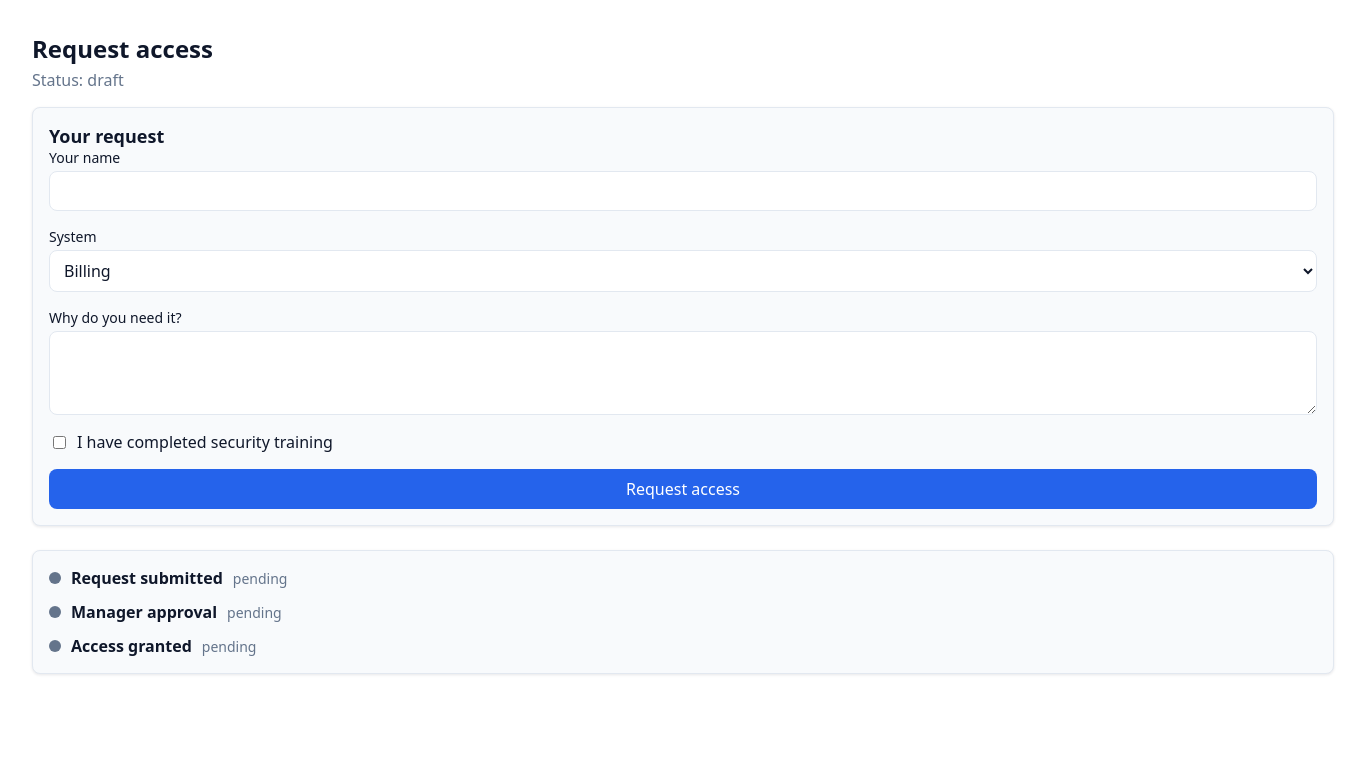
Scenario: access-request workflow (UI -> agent -> UI) › submits the form, the scripted agent replies, the workflow advances
Click the button "Request access" at (683, 489), box [49, 469, 1317, 509]
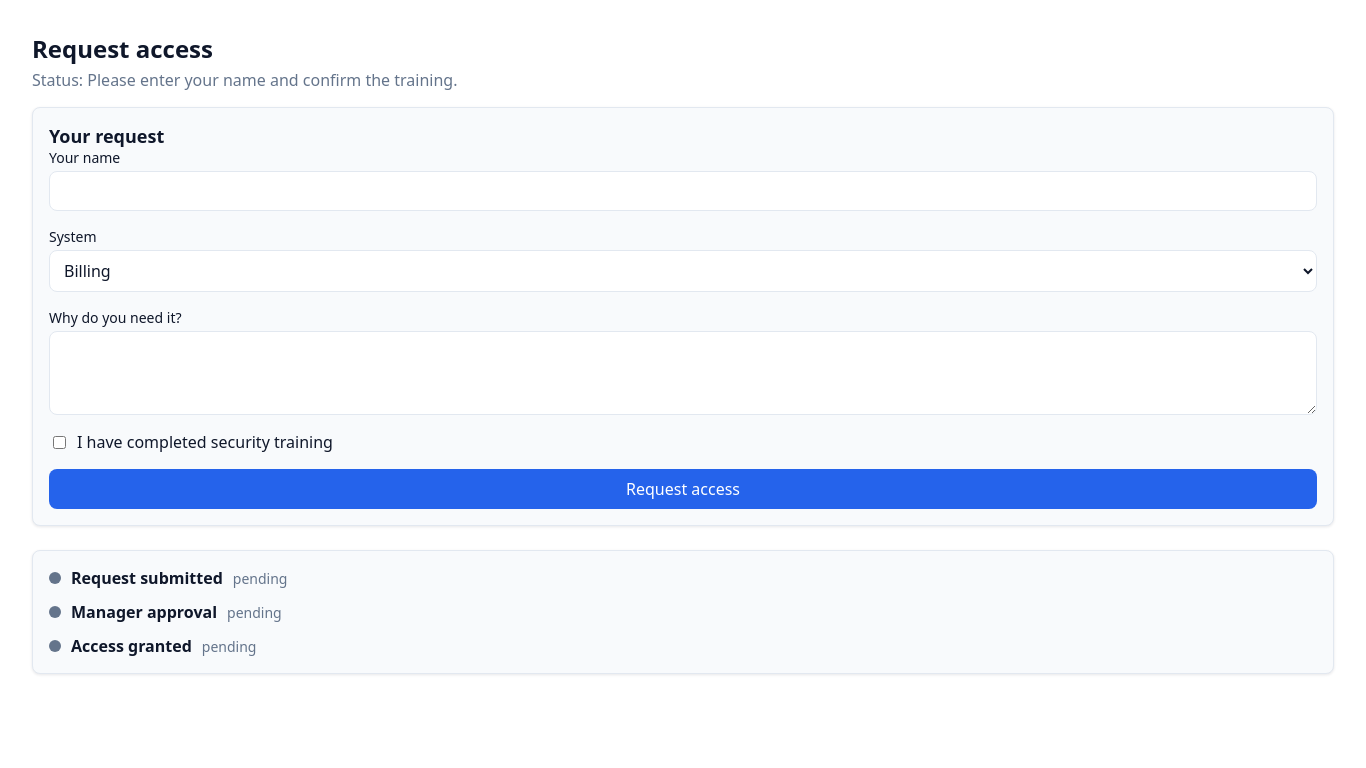
Expected: the text "Status: Please enter your name and confirm the training." is shown, [32, 69, 458, 91]
Type "Ada" into the field labelled "Your name" at (683, 191), box [49, 171, 1317, 211]
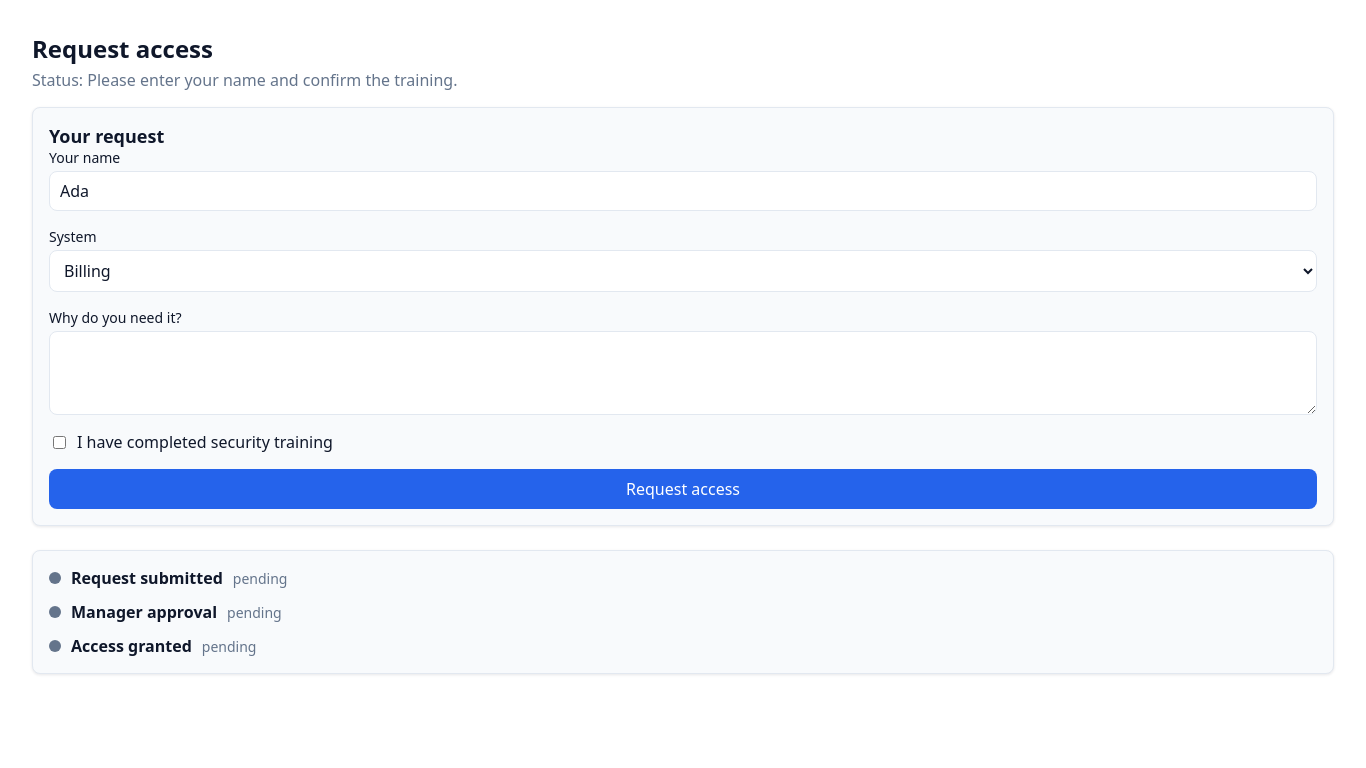
Click the checkbox labelled "I have completed security training" at (60, 442), box [53, 436, 66, 448]
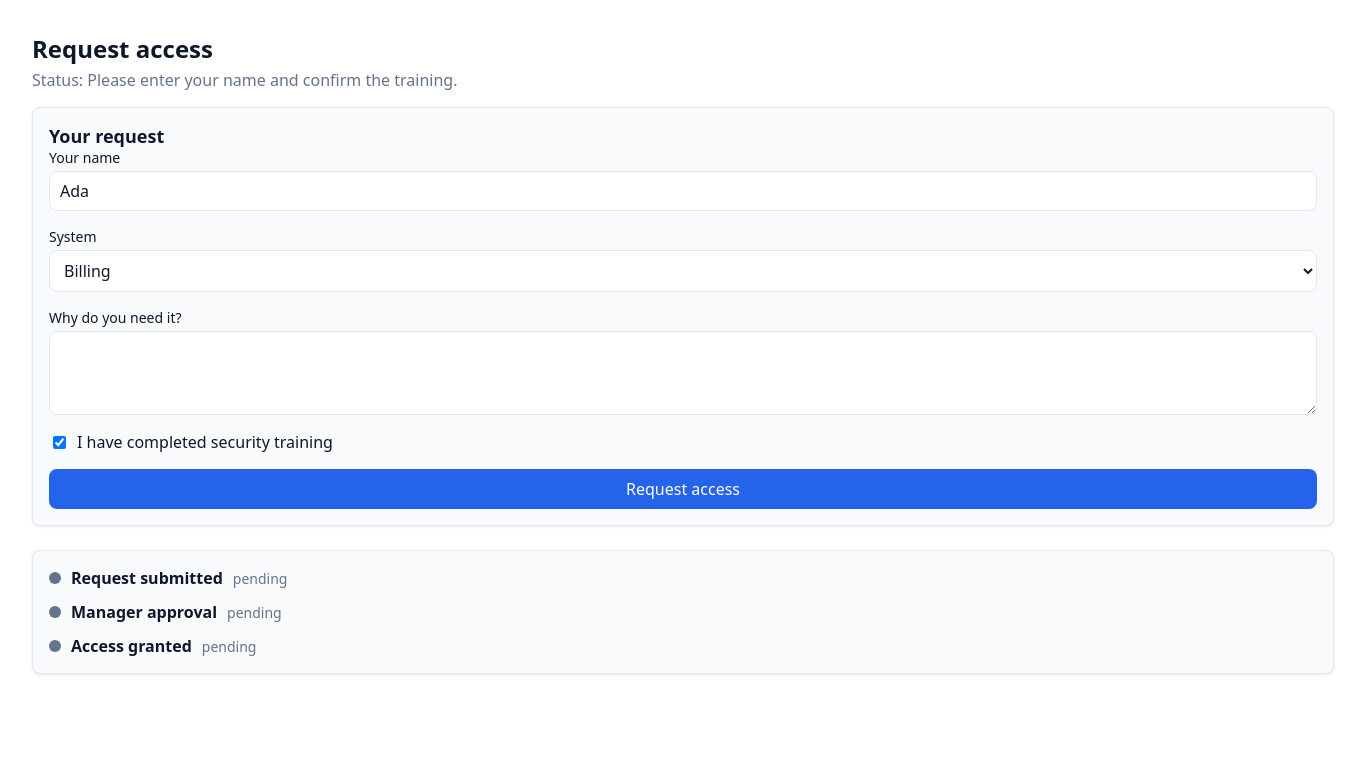
Click the button "Request access" at (683, 489), box [49, 469, 1317, 509]
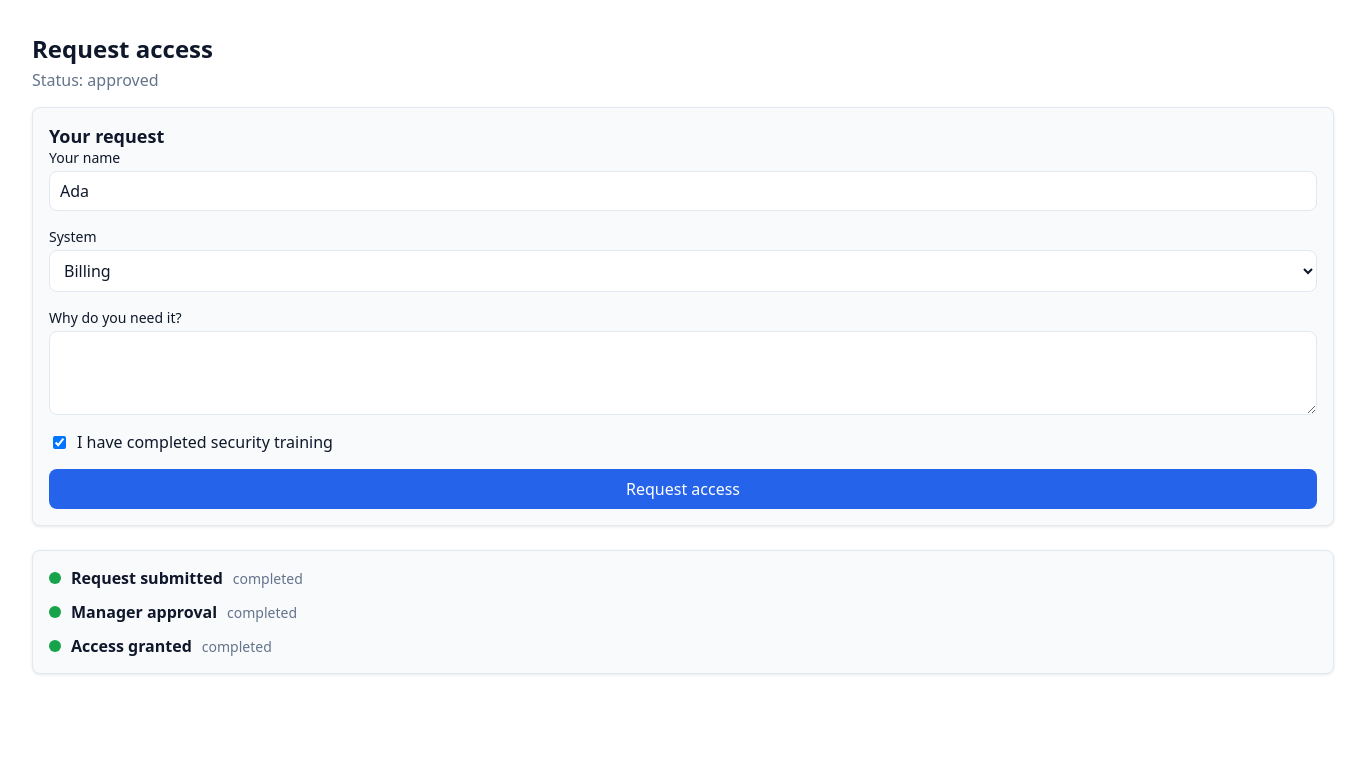
Expected: the number of list items is 3, [49, 567, 303, 589]; [49, 601, 297, 623]; [49, 635, 272, 657]
Expected: the text "Status: approved" is shown, [32, 69, 159, 91]
